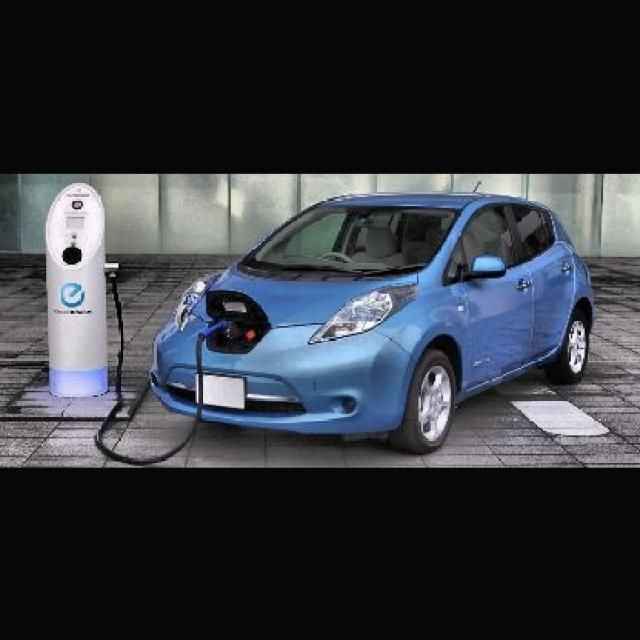blue: (147, 194, 640, 442)
